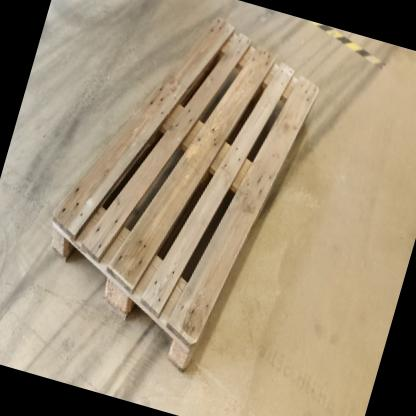BoxFace: (43, 11, 324, 387)
